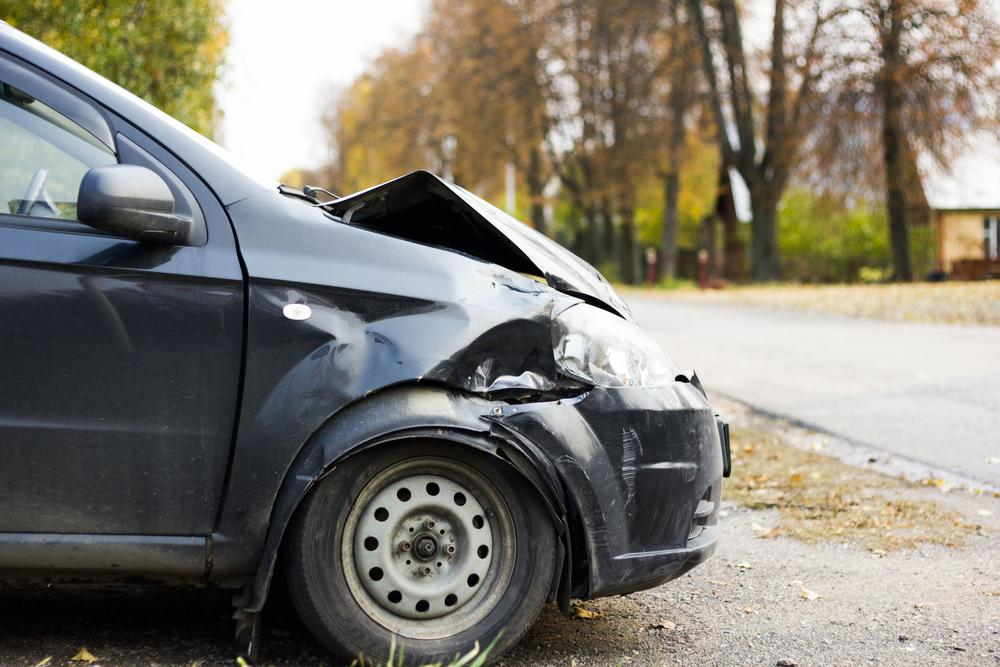dent: (312, 291, 557, 403), (297, 448, 325, 480)
scratch: (619, 423, 646, 509)
